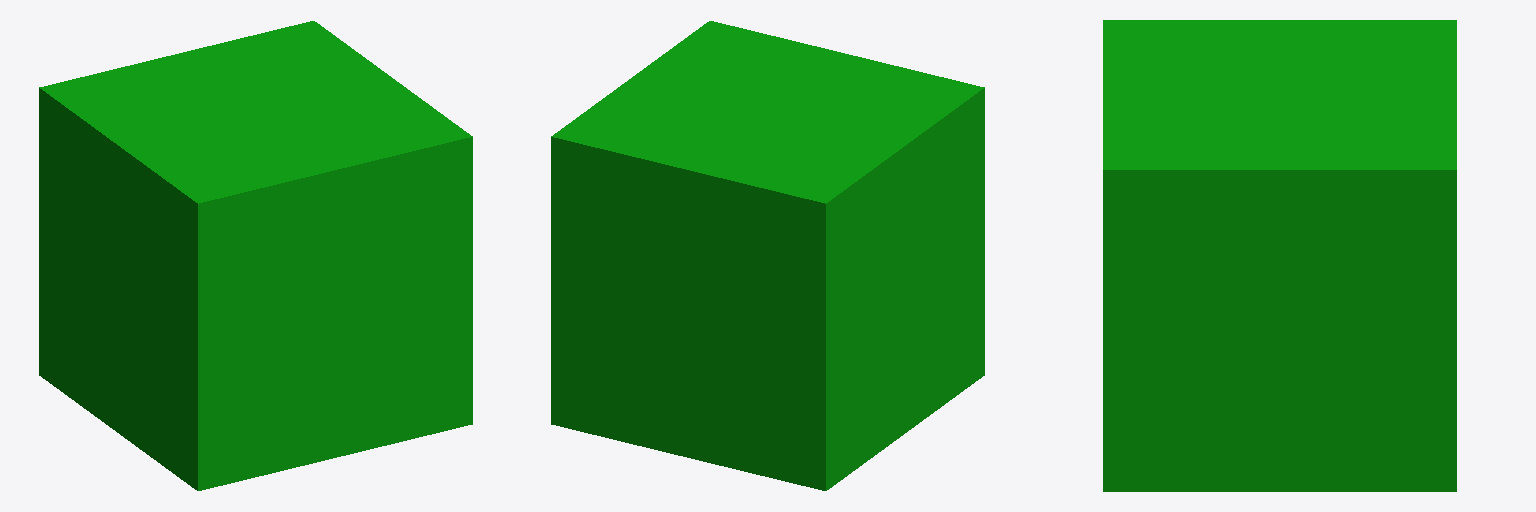
URDF robot description (simple_table):
<?xml version="1.0"?>
<robot name="simple_table">

	<material name="color">
		<color rgba="0.082 .69 .10 1"/>
	</material>

	<link name="base_link">
		<visual>
			<geometry>
				<box size="0.05 0.05 0.05"/>
			</geometry>
			<material name="color"/>
		</visual>
		<collision>
			<geometry>
				<box size="0.05 0.05 0.05"/>
			</geometry>
		</collision>
	</link>
</robot>

--- What the picture shows (computed from the rendered views, not written in the file) ---
Views: 3 orthographic renders of the robot side by side, from view 1: azimuth 30°, elevation 25°; view 2: azimuth 150°, elevation 25°; view 3: azimuth 270°, elevation 25°.
Model simple_table with 1 links and 0 joints (none), rooted at base_link, posed every joint at zero.
Links seen in each view (by area): view 1: base_link; view 2: base_link; view 3: base_link.
Boxes of the visible links, bbox=[...] form: base_link: bbox=[39, 21, 472, 490]; base_link: bbox=[551, 21, 984, 490]; base_link: bbox=[1103, 20, 1456, 491].
Bounding box of the posed robot: 0.05 × 0.05 × 0.05 m (x, y, z).
Geometry: primitives only (box / cylinder / sphere), no mesh files.